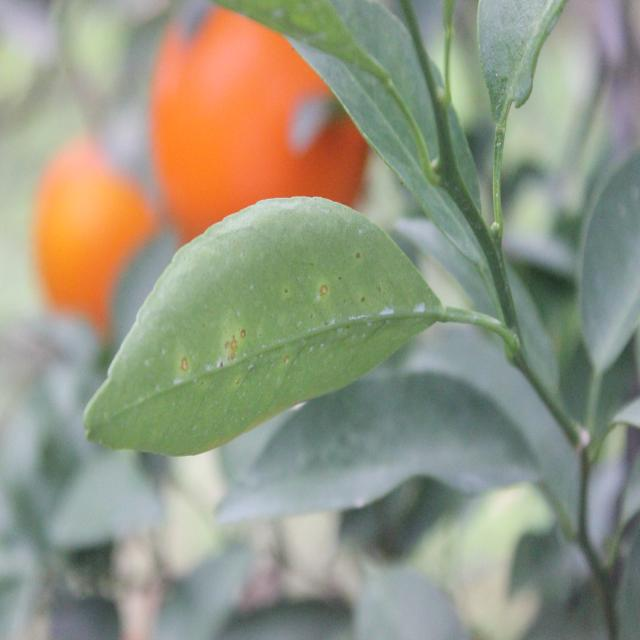canker: (162, 242, 416, 404)
